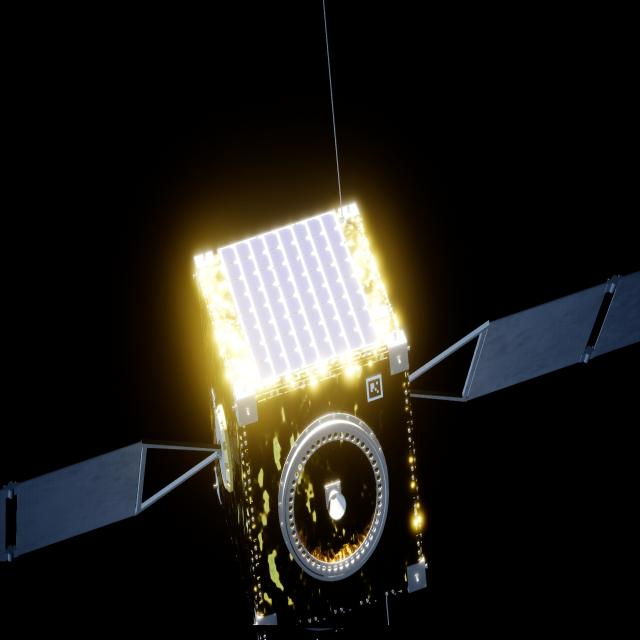satellite: (0, 202, 640, 628)
